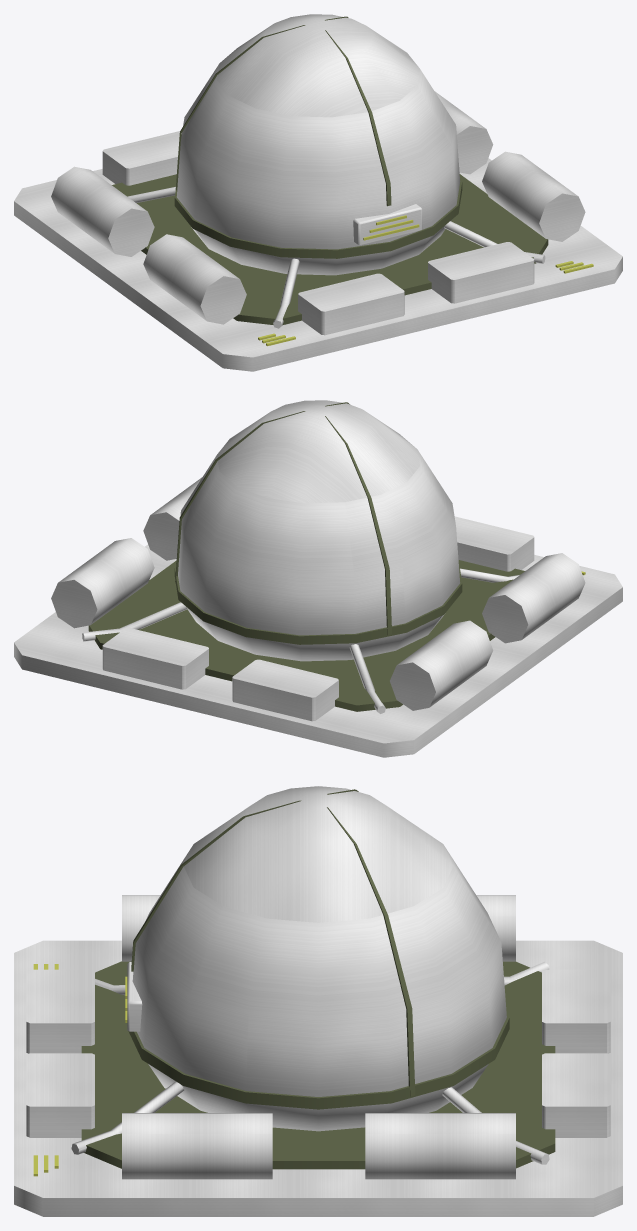
Rendered from psychic_droner.obj.
3 views of the same model, one above another, from view 1: azimuth 30°, elevation 25°; view 2: azimuth 150°, elevation 25°; view 3: azimuth 270°, elevation 25° (orthographic). The views are drawn at different scales.
Parts seen in each view (by area): view 1: retained_56, retained_0, retained_28, retained_528, retained_556, retained_584, front_right_base_block, front_left_base_block, rear_left_base_block, retained_244, retained_612, signal_control_housing (+4 smaller); view 2: retained_56, retained_0, retained_28, retained_528, retained_556, retained_612, rear_right_base_block, rear_left_base_block, front_left_base_block, retained_244, retained_584, retained_408 (+3 smaller); view 3: retained_56, retained_0, retained_28, retained_584, retained_612, front_left_base_block, front_right_base_block, rear_left_base_block, rear_right_base_block, retained_244, retained_372, retained_556 (+5 smaller).
Part boxes in pixels (x1=…): retained_56: x1=176, y1=14, x2=460, y2=275; retained_0: x1=14, y1=158, x2=622, y2=371; retained_28: x1=112, y1=174, x2=548, y2=325; retained_528: x1=143, y1=234, x2=246, y2=324; retained_556: x1=51, y1=166, x2=154, y2=256; retained_584: x1=482, y1=151, x2=585, y2=241; front_right_base_block: x1=428, y1=242, x2=534, y2=303; front_left_base_block: x1=298, y1=273, x2=404, y2=335; rear_left_base_block: x1=102, y1=131, x2=181, y2=185; retained_244: x1=174, y1=179, x2=462, y2=258; retained_612: x1=434, y1=91, x2=493, y2=174; signal_control_housing: x1=353, y1=204, x2=422, y2=244; retained_56: x1=178, y1=400, x2=460, y2=661; retained_0: x1=14, y1=544, x2=622, y2=757; retained_28: x1=88, y1=560, x2=524, y2=711; retained_528: x1=482, y1=553, x2=585, y2=643; retained_556: x1=390, y1=620, x2=493, y2=710; retained_612: x1=51, y1=538, x2=154, y2=628; rear_right_base_block: x1=102, y1=628, x2=208, y2=689; rear_left_base_block: x1=232, y1=659, x2=338, y2=721; front_left_base_block: x1=454, y1=516, x2=534, y2=571; retained_244: x1=174, y1=561, x2=462, y2=644; retained_584: x1=143, y1=477, x2=202, y2=560; retained_408: x1=325, y1=416, x2=391, y2=635; retained_56: x1=132, y1=786, x2=506, y2=1131; retained_0: x1=14, y1=940, x2=622, y2=1216; retained_28: x1=81, y1=961, x2=555, y2=1169; retained_584: x1=122, y1=1113, x2=272, y2=1179; retained_612: x1=365, y1=1113, x2=515, y2=1179; front_left_base_block: x1=26, y1=969, x2=94, y2=1053; front_right_base_block: x1=26, y1=1053, x2=94, y2=1137; rear_left_base_block: x1=542, y1=969, x2=610, y2=1053; rear_right_base_block: x1=542, y1=1053, x2=610, y2=1137; retained_244: x1=128, y1=1011, x2=509, y2=1109; retained_372: x1=327, y1=807, x2=415, y2=1096; retained_556: x1=476, y1=895, x2=515, y2=961.
Bounding box in the file's own units: 5.86 × 3.05 × 5.86.
